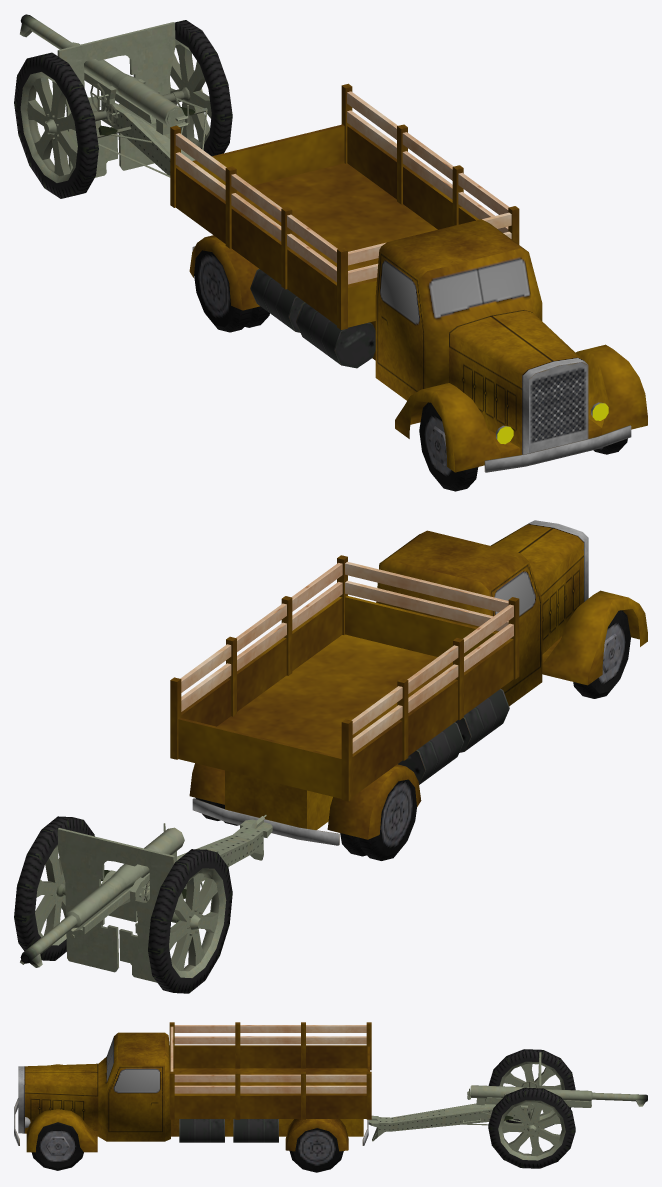
Rendered from esr75mmMle1897_truck.dae.
3 views of the same model, one above another, from view 1: azimuth 30°, elevation 25°; view 2: azimuth 150°, elevation 25°; view 3: azimuth 270°, elevation 25° (orthographic). The views are drawn at different scales.
Visible parts, largest first — view 1: base, gun_wheels, carriage, barrels, wheels2, wheels1; view 2: base, carriage, gun_wheels, barrels, wheels2, wheels1; view 3: base, gun_wheels, carriage, barrels, wheels1, wheels2.
Part boxes in pixels (<box>): base: <box>170,83,647,472</box>; gun_wheels: <box>14,20,232,198</box>; carriage: <box>20,14,207,177</box>; barrels: <box>250,269,375,368</box>; wheels2: <box>194,250,269,332</box>; wheels1: <box>419,402,627,491</box>; base: <box>170,520,647,845</box>; carriage: <box>20,815,272,982</box>; gun_wheels: <box>14,816,232,993</box>; barrels: <box>398,689,509,784</box>; wheels2: <box>195,779,416,860</box>; wheels1: <box>573,610,630,698</box>; base: <box>14,1022,371,1152</box>; gun_wheels: <box>488,1049,575,1168</box>; carriage: <box>368,1052,647,1141</box>; barrels: <box>179,1119,278,1142</box>; wheels1: <box>31,1122,83,1170</box>; wheels2: <box>289,1128,343,1172</box>.
Bounding box in the file's own units: 18.01 × 86.88 × 15.39.
